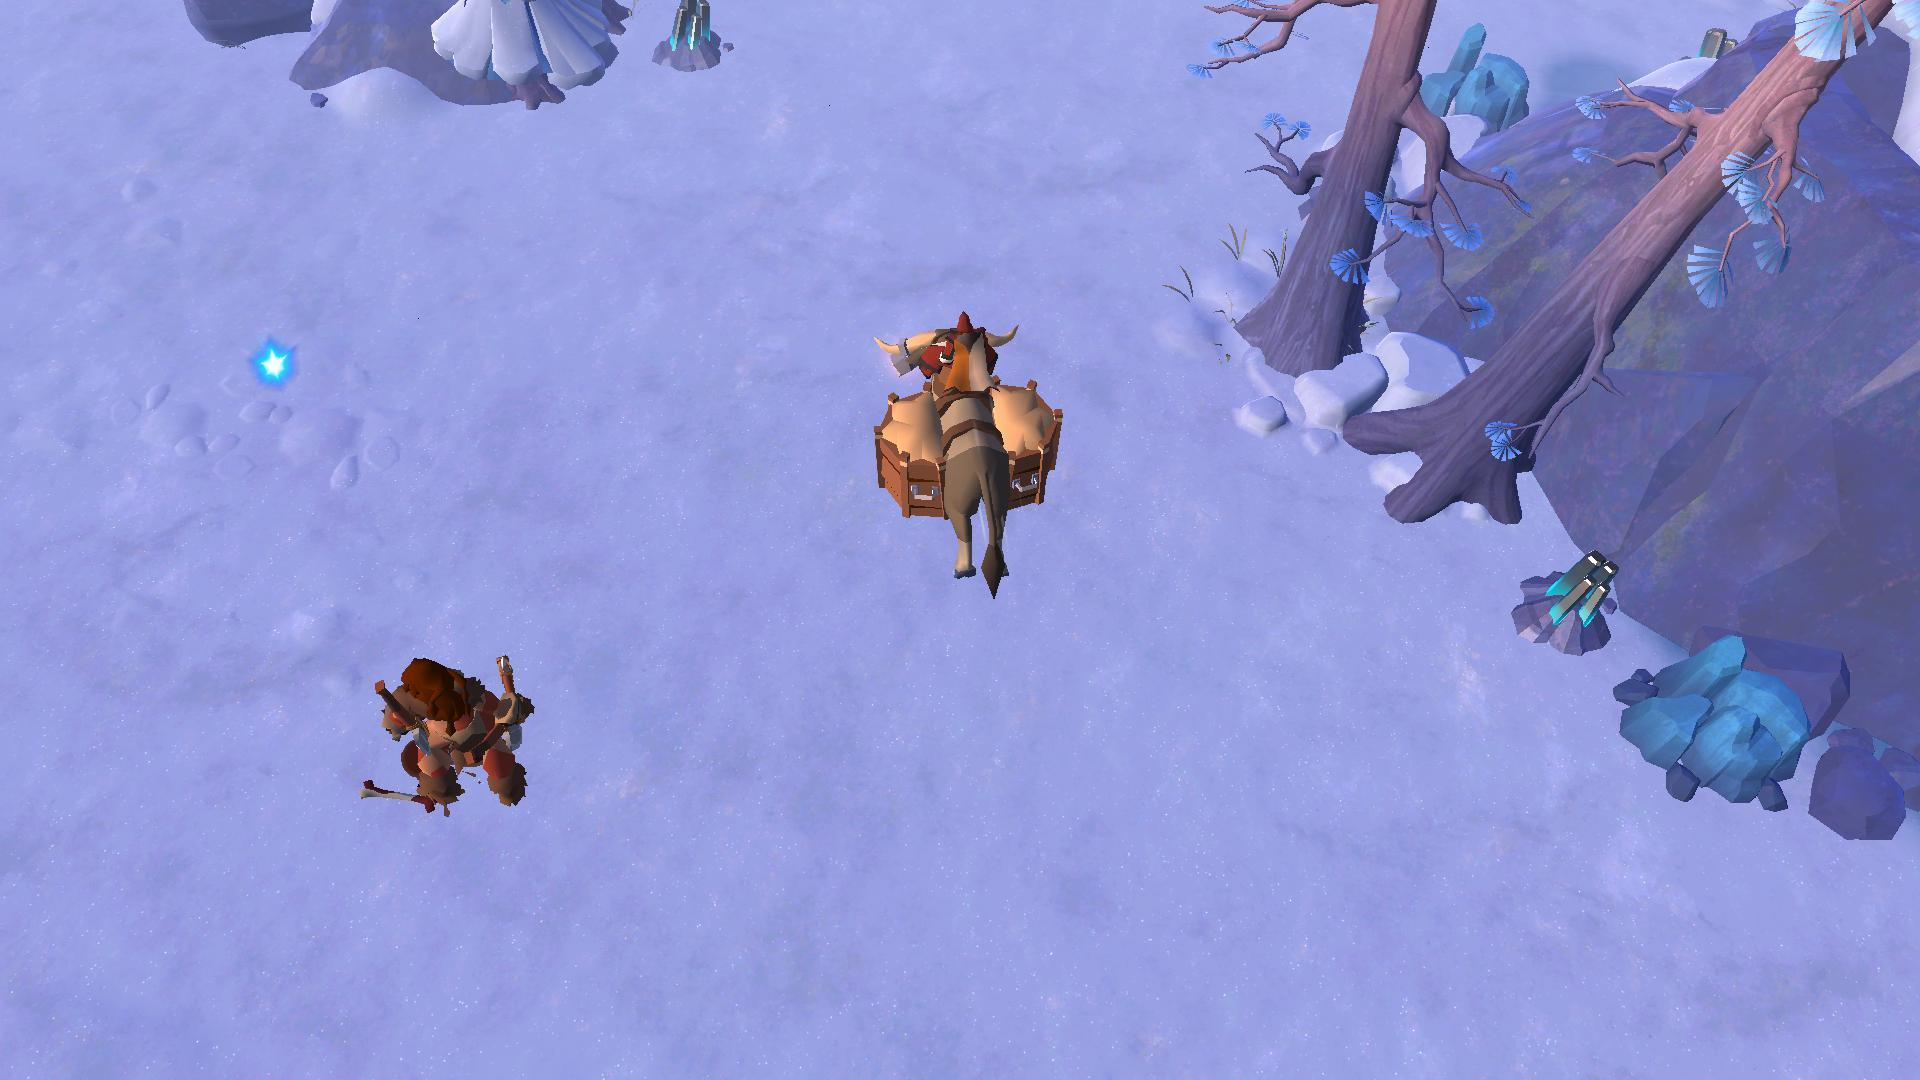enemy_factionKeeper: (367, 649, 531, 807)
ore_t4: (1539, 541, 1618, 632), (659, 0, 716, 59)
rock_t4: (1626, 625, 1801, 820), (1415, 22, 1530, 138)
